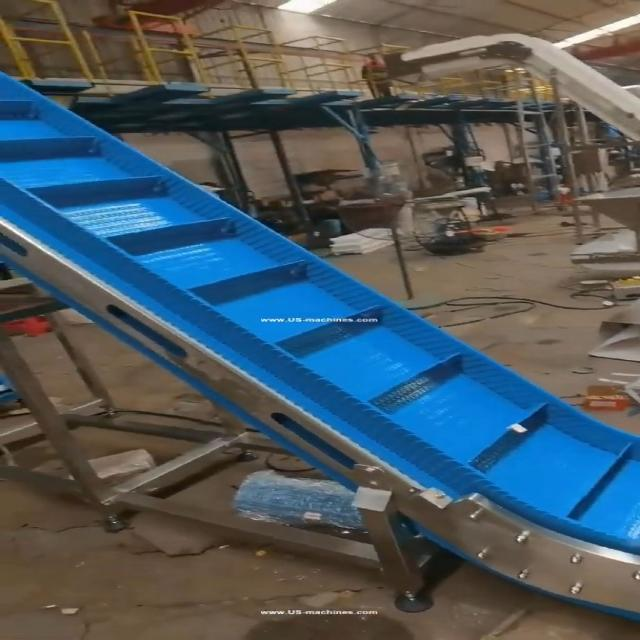Convoyeur: (0, 59, 640, 626)
